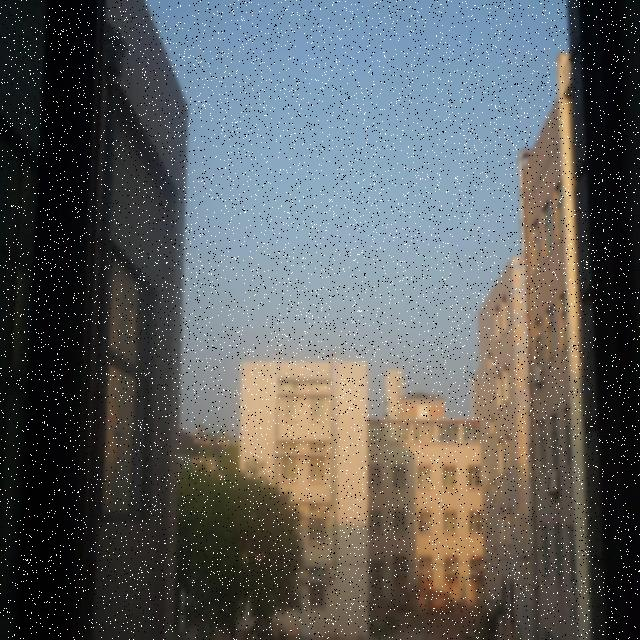UAV: (436, 432, 446, 444)
